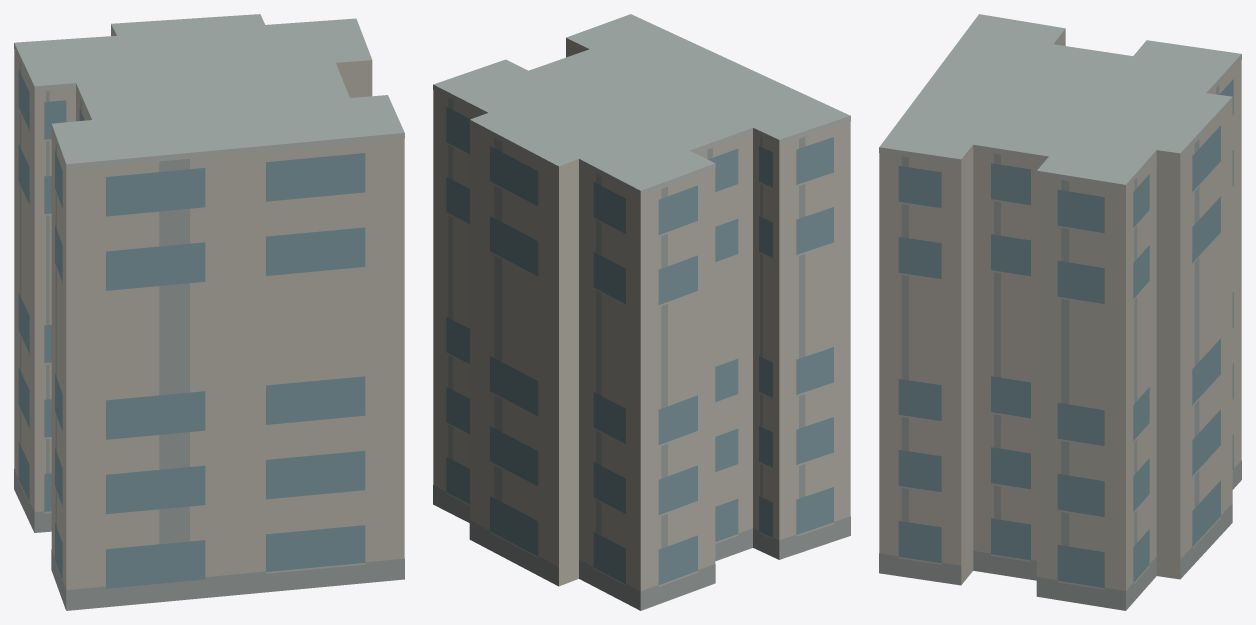
File: survey-upis-32985931.glb
3 views of the same model, side by side, from view 1: azimuth 30°, elevation 25°; view 2: azimuth 150°, elevation 25°; view 3: azimuth 270°, elevation 25° (orthographic). The views are drawn at different scales.
Visible parts, largest first — view 1: survey-upis-32985931.tmp; view 2: survey-upis-32985931.tmp; view 3: survey-upis-32985931.tmp.
Part boxes in pixels (left/top/right/bottom): survey-upis-32985931.tmp: left=14, top=14, right=404, bottom=610; survey-upis-32985931.tmp: left=433, top=14, right=850, bottom=610; survey-upis-32985931.tmp: left=879, top=14, right=1241, bottom=610.
Bounding box in the file's own units: 15.75 × 18.3 × 14.13.
